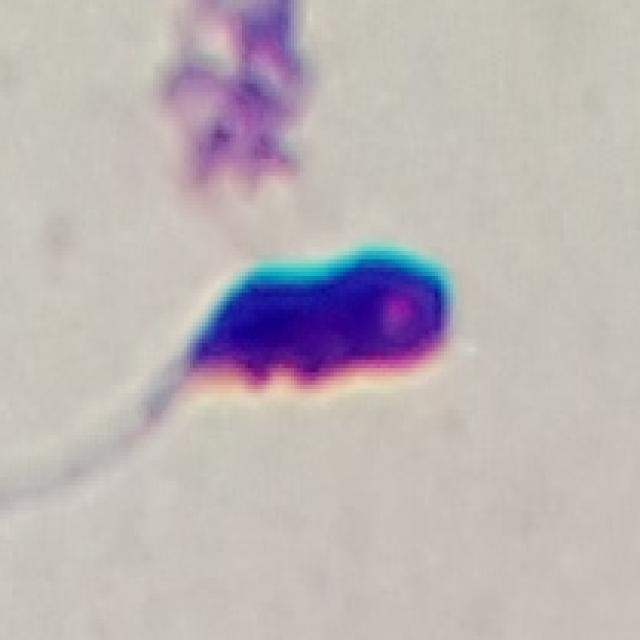abnormal sperm: (0, 234, 465, 531)
